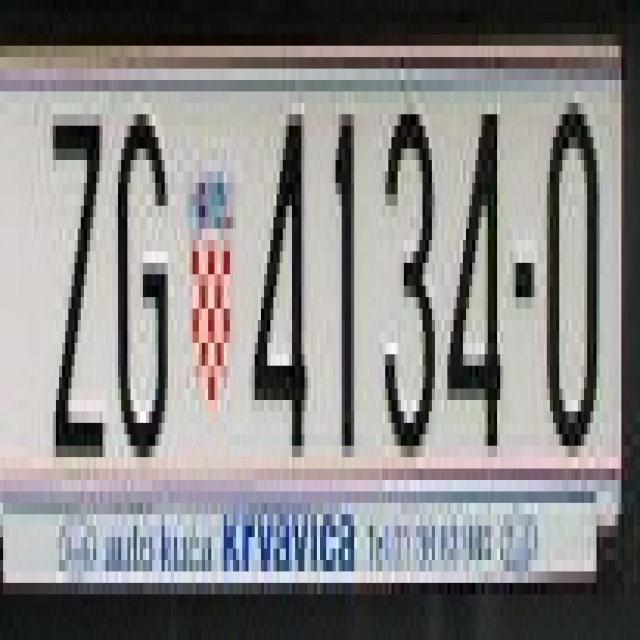0: (540, 103, 600, 446)
1: (326, 103, 361, 446)
3: (382, 103, 441, 491)
4: (444, 114, 513, 457), (245, 103, 308, 446)
G: (112, 114, 171, 457)
Z: (44, 80, 102, 446)
